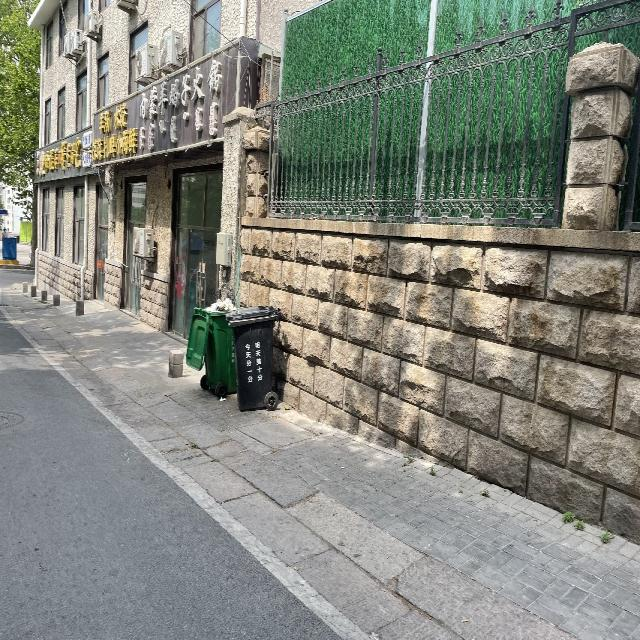garbage_bin: (224, 304, 282, 410)
overflow: (185, 296, 237, 393)
